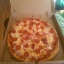pepperoni: (34, 44, 47, 53), (17, 29, 32, 35), (24, 34, 31, 42), (34, 38, 42, 45), (15, 44, 22, 51), (22, 43, 29, 48), (23, 52, 29, 57)
pizza: (4, 17, 59, 61)
